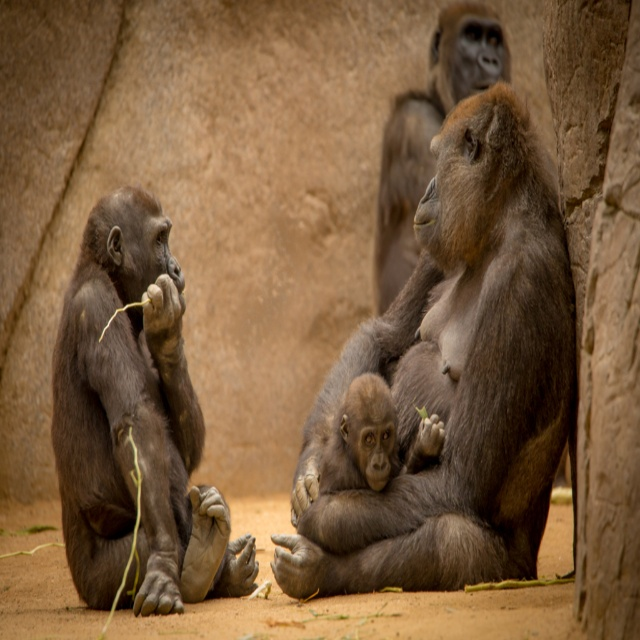Monkey: (270, 83, 578, 599), (50, 187, 259, 617), (371, 0, 512, 315), (318, 374, 448, 492)
